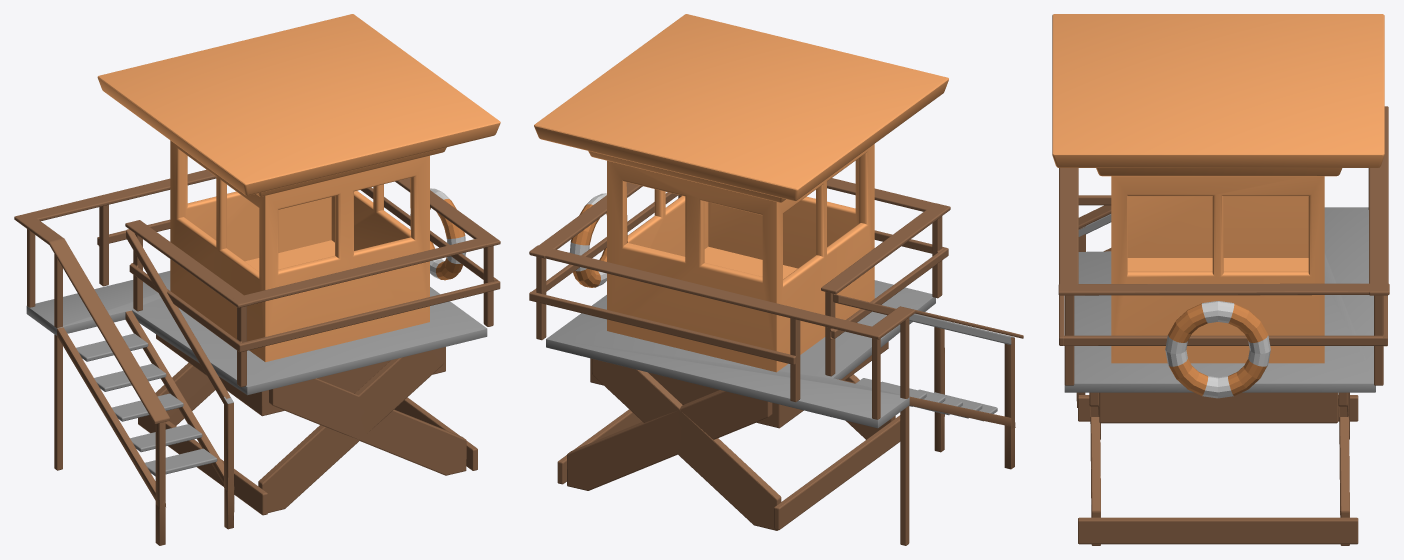
The model's file is cankurtarankabini.fbx.
3 renders of one model, left to right at view 1: azimuth 30°, elevation 25°; view 2: azimuth 150°, elevation 25°; view 3: azimuth 270°, elevation 25°, orthographic. The views are drawn at different scales.
Parts seen in each view (by area): view 1: CABIN.002, CABIN.005, CABIN.004; view 2: CABIN.002, CABIN.005, CABIN.004; view 3: CABIN.002, CABIN.005, CABIN.004.
Boxes of the visible parts, x1,y1,x2,y2 form: CABIN.002: [14, 14, 500, 545]; CABIN.005: [138, 334, 477, 515]; CABIN.004: [410, 188, 465, 280]; CABIN.002: [529, 14, 1023, 545]; CABIN.005: [557, 342, 900, 530]; CABIN.004: [569, 193, 606, 287]; CABIN.002: [1052, 14, 1389, 407]; CABIN.005: [1078, 392, 1358, 545]; CABIN.004: [1165, 301, 1270, 398].
Size of the model in its own units: 187 by 179 by 136.
